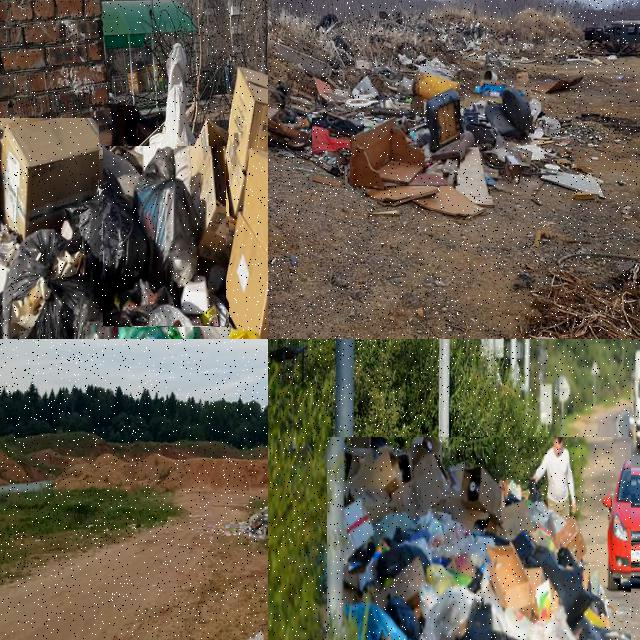lixeira: (328, 437, 634, 639), (104, 147, 228, 328), (0, 118, 101, 338), (351, 76, 462, 187), (466, 87, 532, 198), (268, 80, 317, 149), (312, 112, 365, 158), (478, 72, 509, 102)
